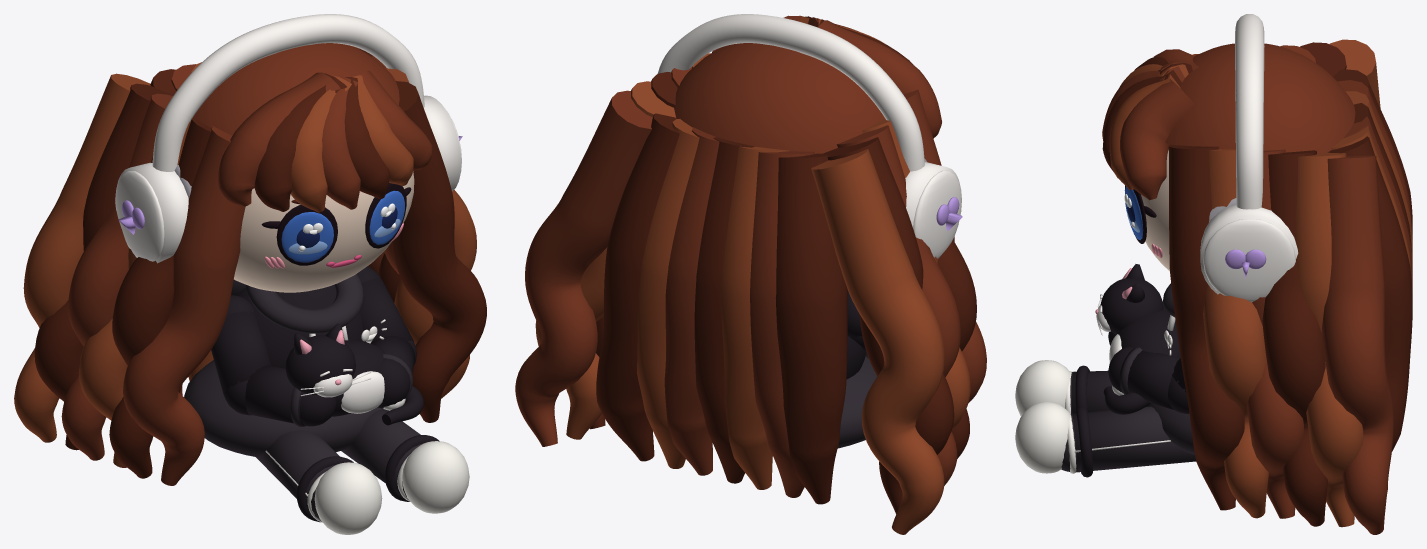
The model's file is jule-plush.glb.
3 renders of one model, left to right at view 1: azimuth 30°, elevation 25°; view 2: azimuth 150°, elevation 25°; view 3: azimuth 270°, elevation 25°, orthographic. The views are drawn at different scales.
Parts seen in each view (by area): view 1: JulePlush; view 2: JulePlush; view 3: JulePlush.
Part boxes in pixels (left/top/right/bottom): JulePlush: left=14, top=14, right=486, bottom=534; JulePlush: left=515, top=14, right=986, bottom=534; JulePlush: left=1015, top=14, right=1412, bottom=534.
Size of the model in its own units: 0.4857 by 0.4689 by 0.4019.
